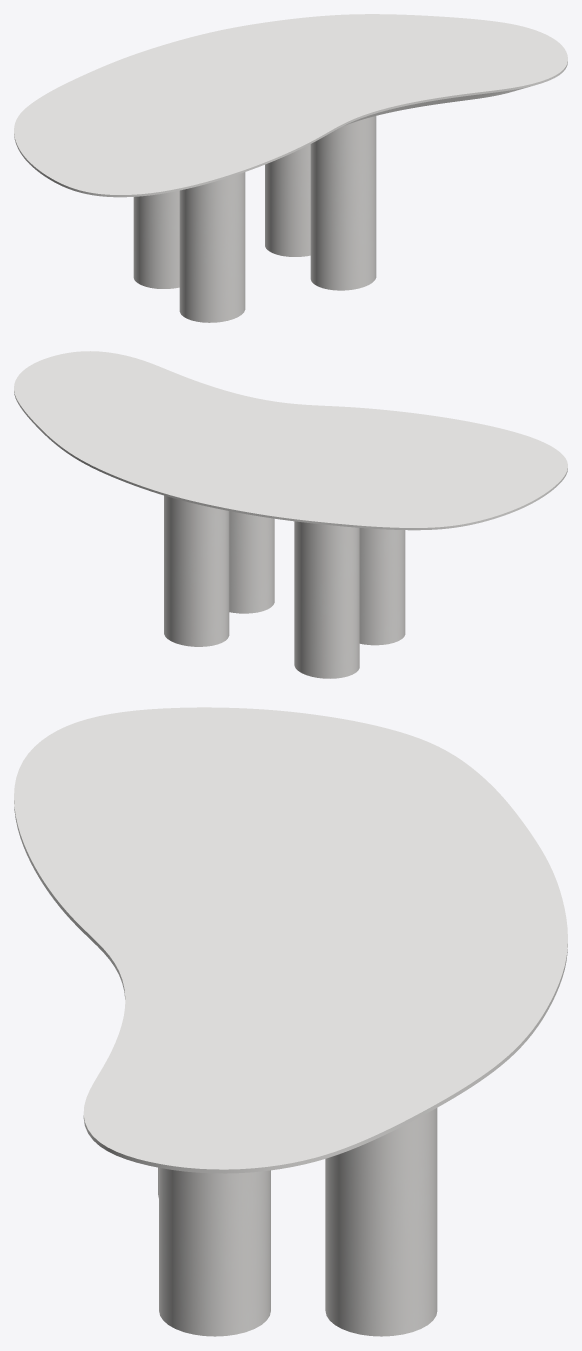
The model's file is purewhite_leaf1_facet_grove.glb.
The picture shows the model from 3 angles, top to bottom: view 1: azimuth 30°, elevation 25°; view 2: azimuth 150°, elevation 25°; view 3: azimuth 270°, elevation 25°; orthographic projection. The views are drawn at different scales.
Parts seen in each view (by area): view 1: facet_leaf1, grove; view 2: facet_leaf1, grove; view 3: facet_leaf1, grove.
Boxes of the visible parts, bbox=[...] form: facet_leaf1: bbox=[14, 14, 567, 197]; grove: bbox=[133, 116, 376, 322]; facet_leaf1: bbox=[14, 351, 567, 530]; grove: bbox=[164, 495, 405, 678]; facet_leaf1: bbox=[14, 707, 567, 1173]; grove: bbox=[158, 1108, 437, 1336].
Bounding box in the file's own units: 7.5 × 2.51 × 3.8.
Materials: 1 (1 with a texture image).
